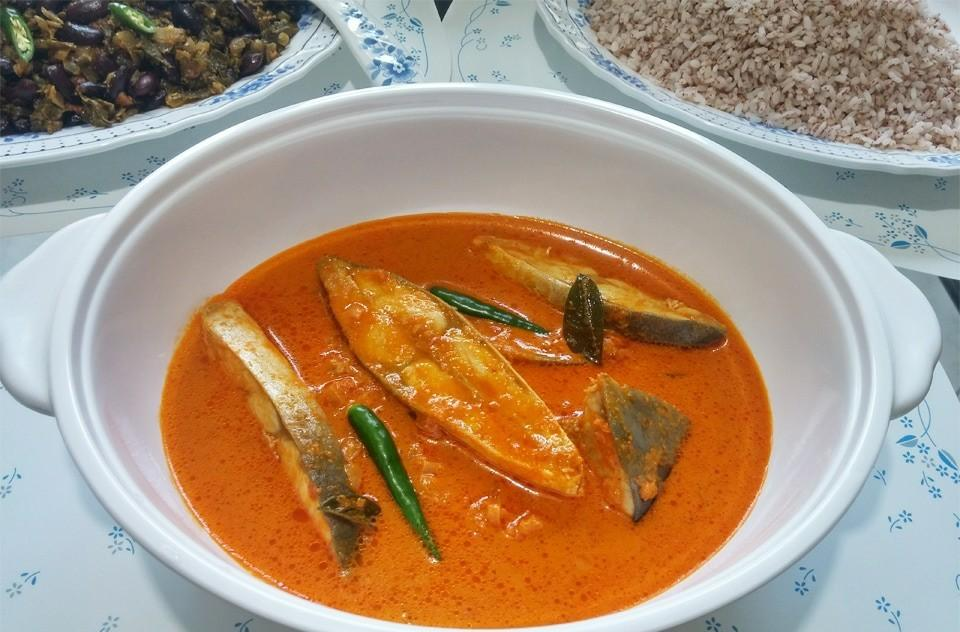FishCurry: (162, 215, 772, 632)
